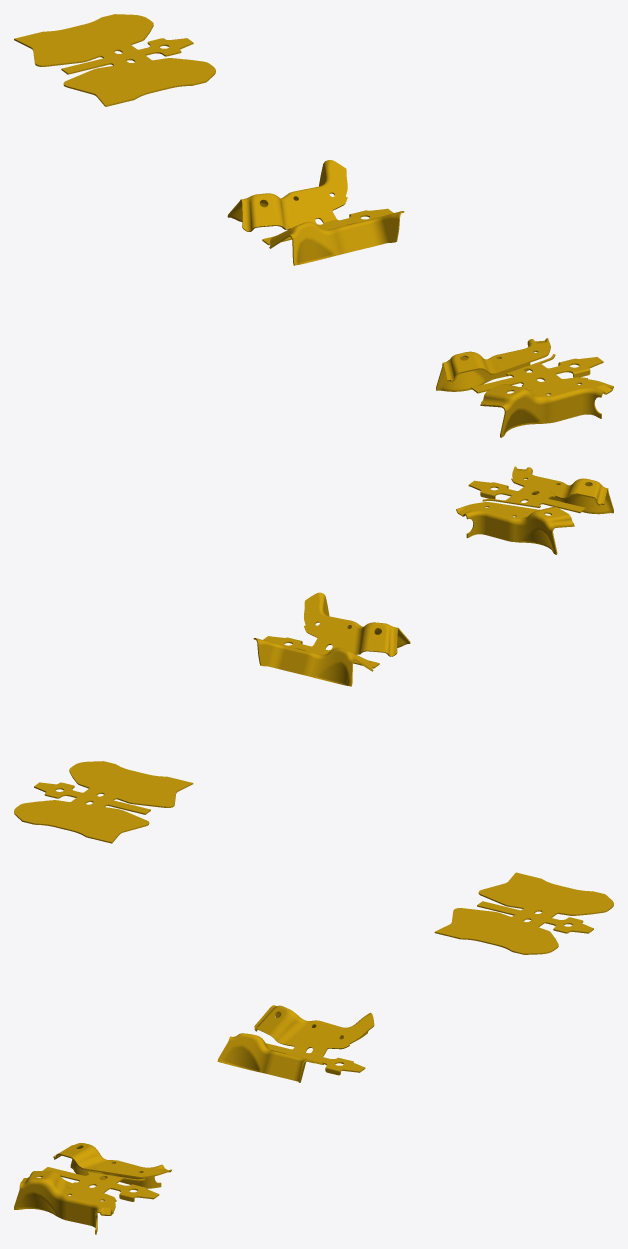
The model's file is pian.fbx.
3 views of the same model, one above another, from view 1: azimuth 30°, elevation 25°; view 2: azimuth 150°, elevation 25°; view 3: azimuth 330°, elevation 25° (orthographic). The views are drawn at different scales.
Parts seen in each view (by area): view 1: pasted__Brep_685, pasted__Brep_718, pasted__Brep_699; view 2: pasted__Brep_685, pasted__Brep_718, pasted__Brep_699; view 3: pasted__Brep_685, pasted__Brep_718, pasted__Brep_699.
Part boxes in pixels (x1,y1,x2,y2): pasted__Brep_685: (14, 14, 215, 106); pasted__Brep_718: (436, 338, 613, 437); pasted__Brep_699: (227, 160, 404, 265); pasted__Brep_685: (14, 761, 193, 843); pasted__Brep_718: (456, 466, 613, 554); pasted__Brep_699: (253, 592, 410, 686); pasted__Brep_685: (434, 872, 613, 954); pasted__Brep_718: (14, 1143, 171, 1234); pasted__Brep_699: (217, 1005, 374, 1082).
Bounding box in the file's own units: 31.55 × 7.12 × 166.
